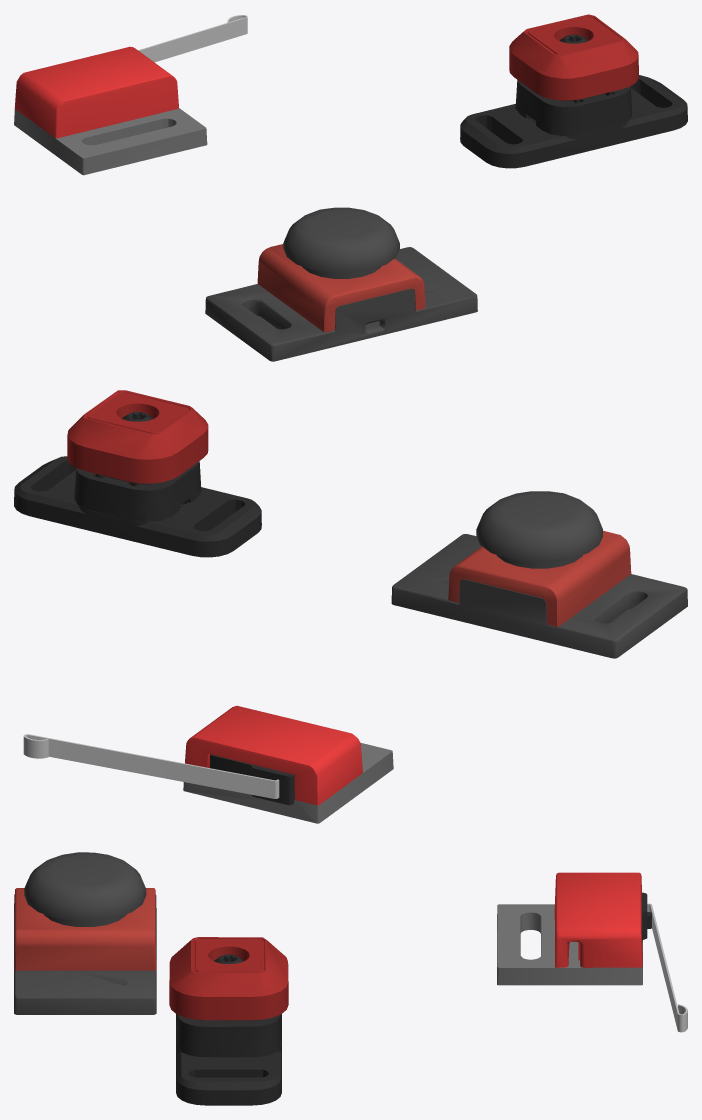
File: Switch.fbx
The picture shows the model from 3 angles, top to bottom: view 1: azimuth 30°, elevation 25°; view 2: azimuth 150°, elevation 25°; view 3: azimuth 270°, elevation 25°; orthographic projection. The views are drawn at different scales.
Visible parts, largest first — view 1: Bumper Switch, Bumper Switch v2, Limit Switch; view 2: Bumper Switch, Bumper Switch v2, Limit Switch; view 3: Bumper Switch, Bumper Switch v2, Limit Switch.
Part boxes in pixels (x1,y1,x2,y2): Bumper Switch: [205, 207, 477, 361]; Bumper Switch v2: [460, 14, 687, 168]; Limit Switch: [14, 15, 247, 175]; Bumper Switch: [391, 491, 687, 658]; Bumper Switch v2: [14, 390, 261, 557]; Limit Switch: [23, 705, 393, 823]; Bumper Switch: [14, 852, 156, 1014]; Bumper Switch v2: [169, 937, 288, 1105]; Limit Switch: [497, 872, 687, 1032].
Bounding box in the file's own units: 506 × 147 × 558.
